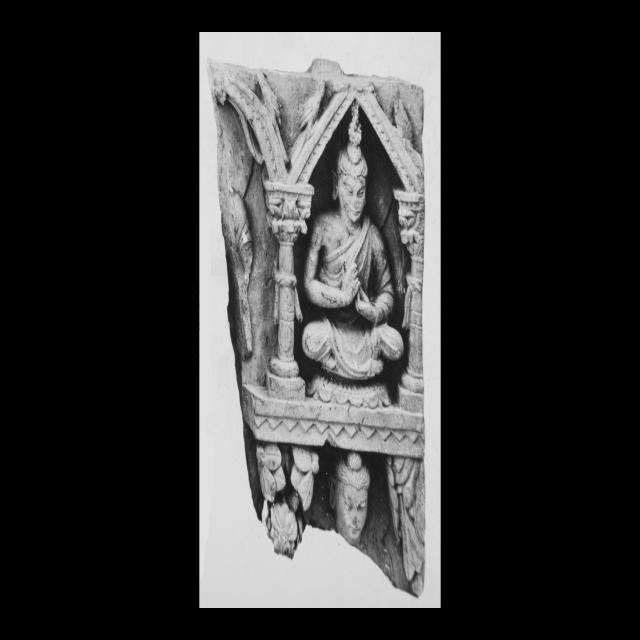buddha-sitting: (302, 107, 403, 382)
